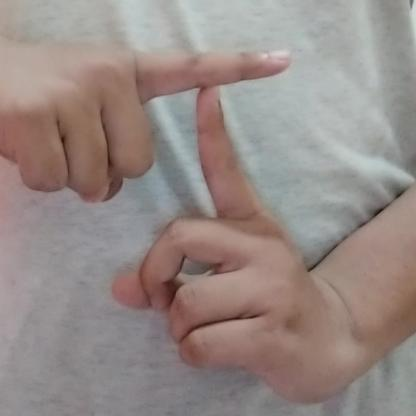T: (16, 41, 402, 406)
